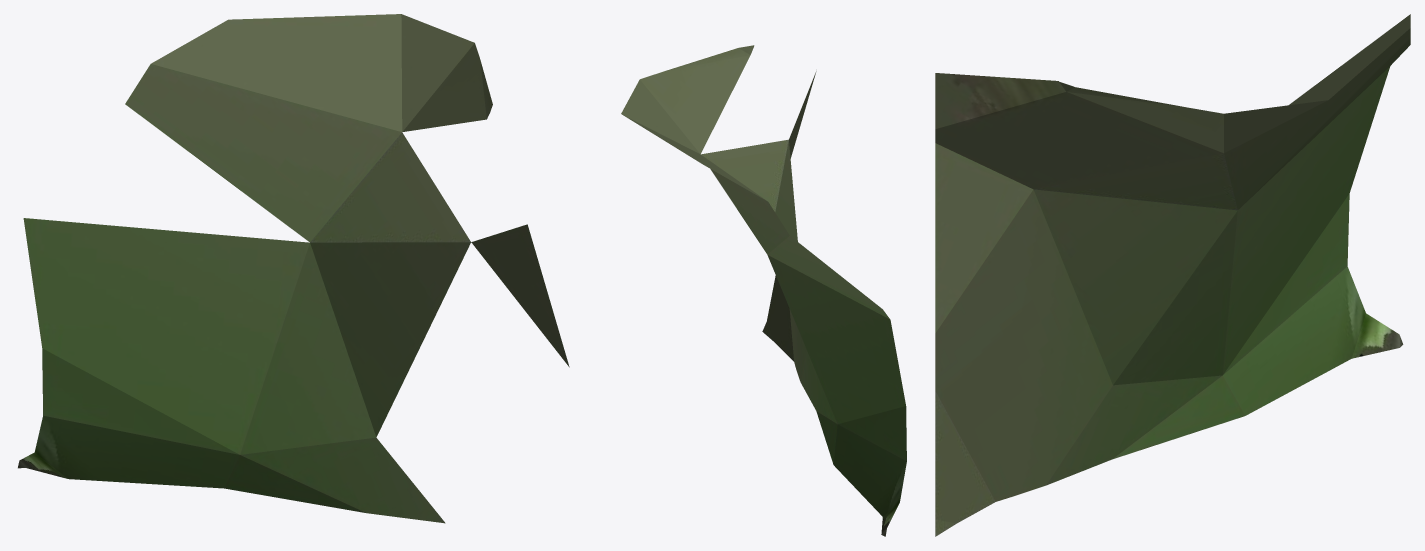
3 renders of one model, left to right at view 1: azimuth 30°, elevation 25°; view 2: azimuth 150°, elevation 25°; view 3: azimuth 270°, elevation 25°, orthographic. The views are drawn at different scales.
Bounding box in the file's own units: 2.94 × 2.95 × 2.95.
4 materials, 4 textured.
